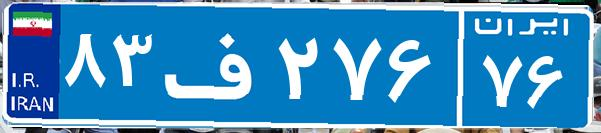2: (273, 28, 330, 110)
3: (110, 28, 158, 105)
6: (385, 28, 445, 110), (525, 38, 570, 115)
7: (330, 28, 385, 110), (475, 38, 525, 113)
8: (57, 26, 110, 107)
ف: (158, 15, 273, 115)
